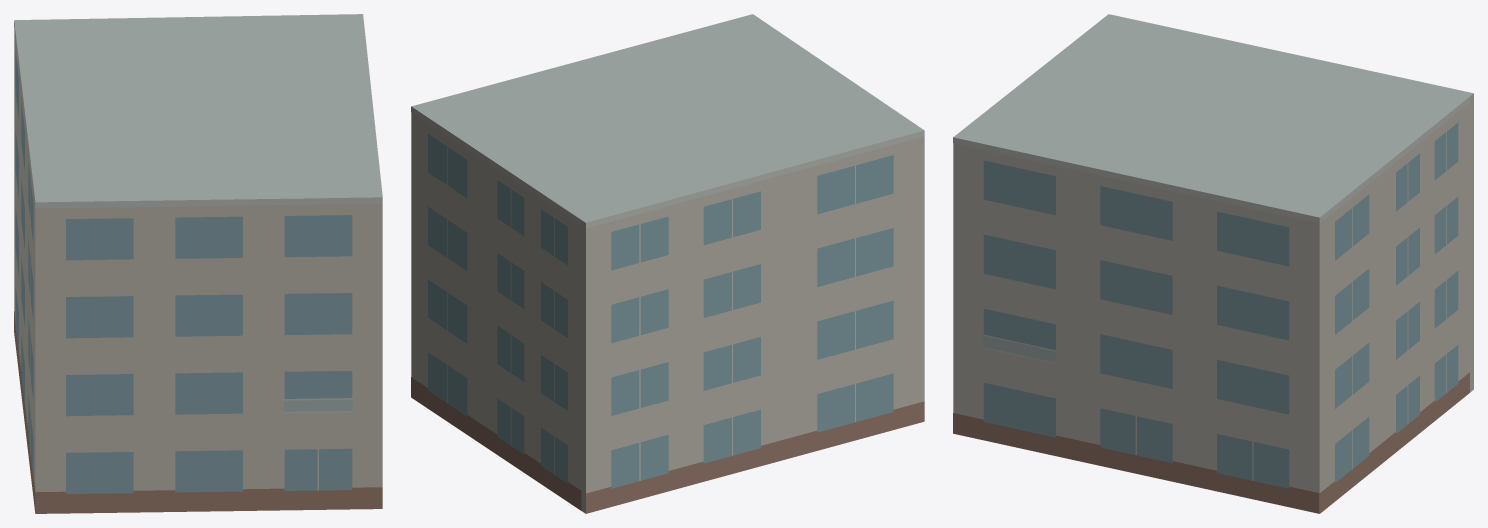
Rendered from survey-upis-32698423.glb.
3 renders of one model, left to right at view 1: azimuth 30°, elevation 25°; view 2: azimuth 150°, elevation 25°; view 3: azimuth 270°, elevation 25°, orthographic. The views are drawn at different scales.
Parts seen in each view (by area): view 1: survey-upis-32698423.tmp; view 2: survey-upis-32698423.tmp; view 3: survey-upis-32698423.tmp.
Part boxes in pixels (<box>): survey-upis-32698423.tmp: <box>14,14,382,513</box>; survey-upis-32698423.tmp: <box>411,14,924,513</box>; survey-upis-32698423.tmp: <box>953,14,1473,513</box>.
Bounding box in the file's own units: 17.98 × 12.2 × 19.44.
